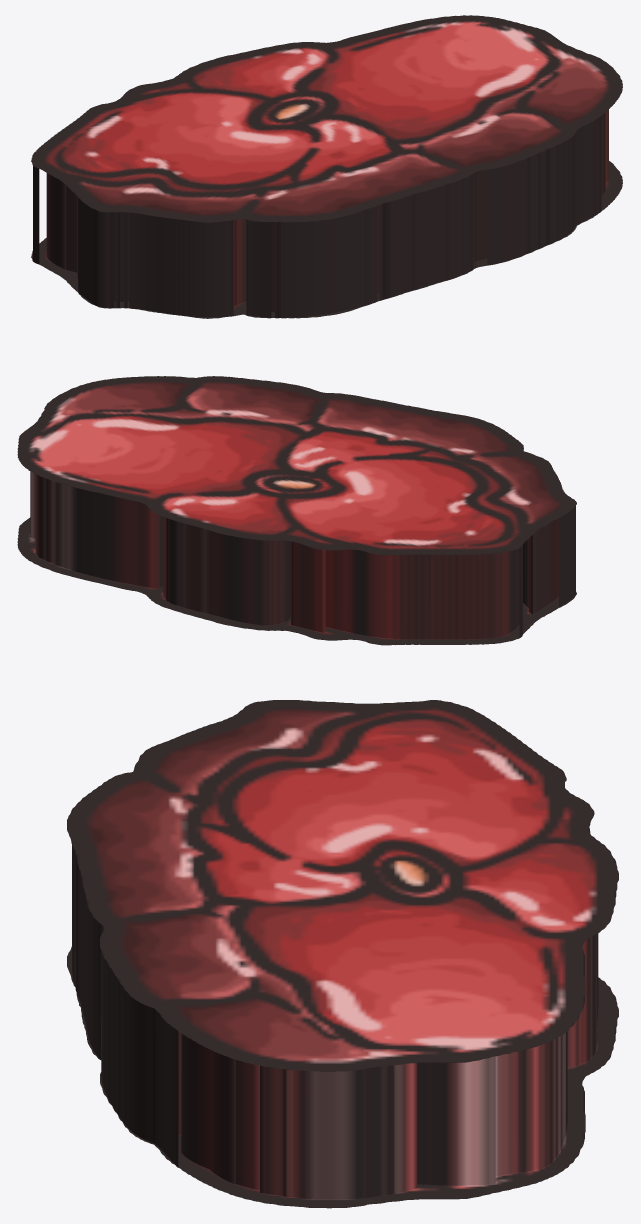
3 renders of one model, top to bottom at view 1: azimuth 30°, elevation 25°; view 2: azimuth 150°, elevation 25°; view 3: azimuth 270°, elevation 25°, orthographic. The views are drawn at different scales.
Visible parts, largest first — view 1: Curve; view 2: Curve; view 3: Curve.
Part boxes in pixels (box(x1,y1,x2,y2)): Curve: box(31, 15, 622, 318); Curve: box(17, 376, 576, 645); Curve: box(67, 700, 618, 1208).
Size of the model in its own units: 1 by 0.16 by 0.6514.
Materials: 1 (1 with a texture image).
